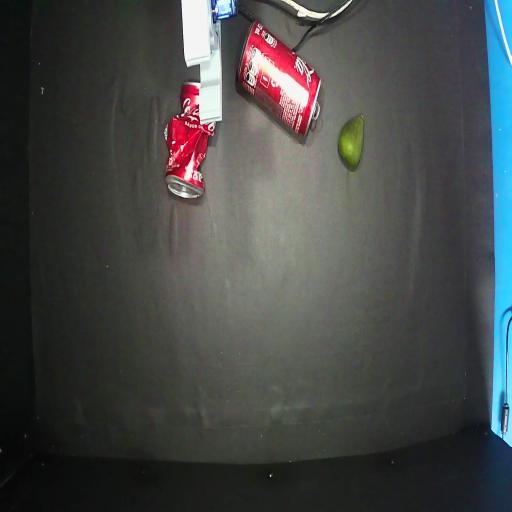higo: (338, 114, 363, 169)
lata: (237, 20, 321, 136)
lata_defectuoso: (165, 82, 215, 198)
